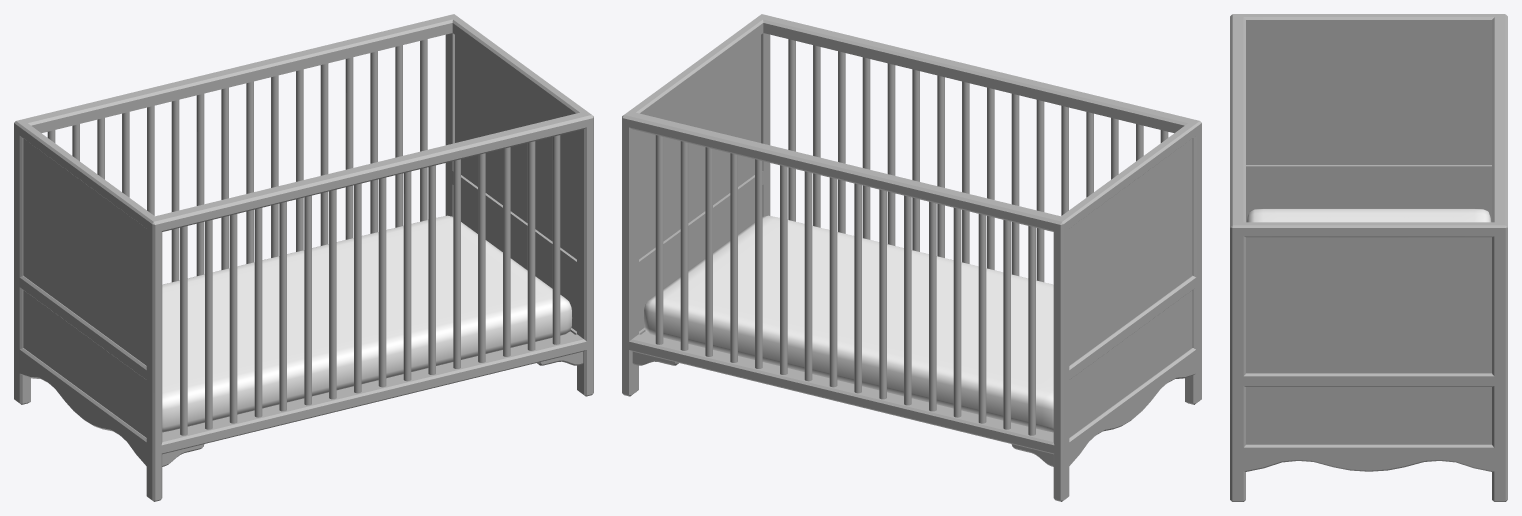
The model's file is Crib_V8.fbx.
3 renders of one model, left to right at view 1: azimuth 30°, elevation 25°; view 2: azimuth 150°, elevation 25°; view 3: azimuth 270°, elevation 25°, orthographic.
Visible parts, largest first — view 1: Crib_V8; view 2: Crib_V8; view 3: Crib_V8.
Boxes of the visible parts, x1=… form: Crib_V8: x1=14, y1=14, x2=593, y2=501; Crib_V8: x1=622, y1=14, x2=1201, y2=501; Crib_V8: x1=1230, y1=14, x2=1507, y2=501.
Bounding box in the file's own units: 137 × 83 × 75.5.
